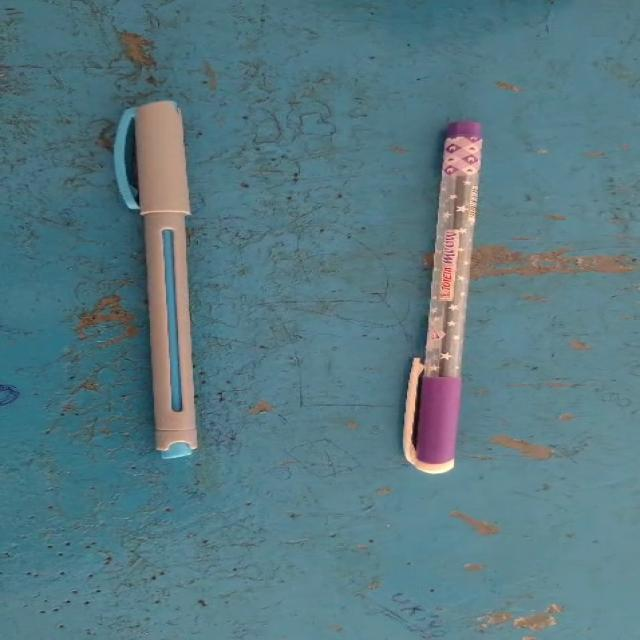pen: (36, 43, 261, 481), (353, 75, 537, 518)
